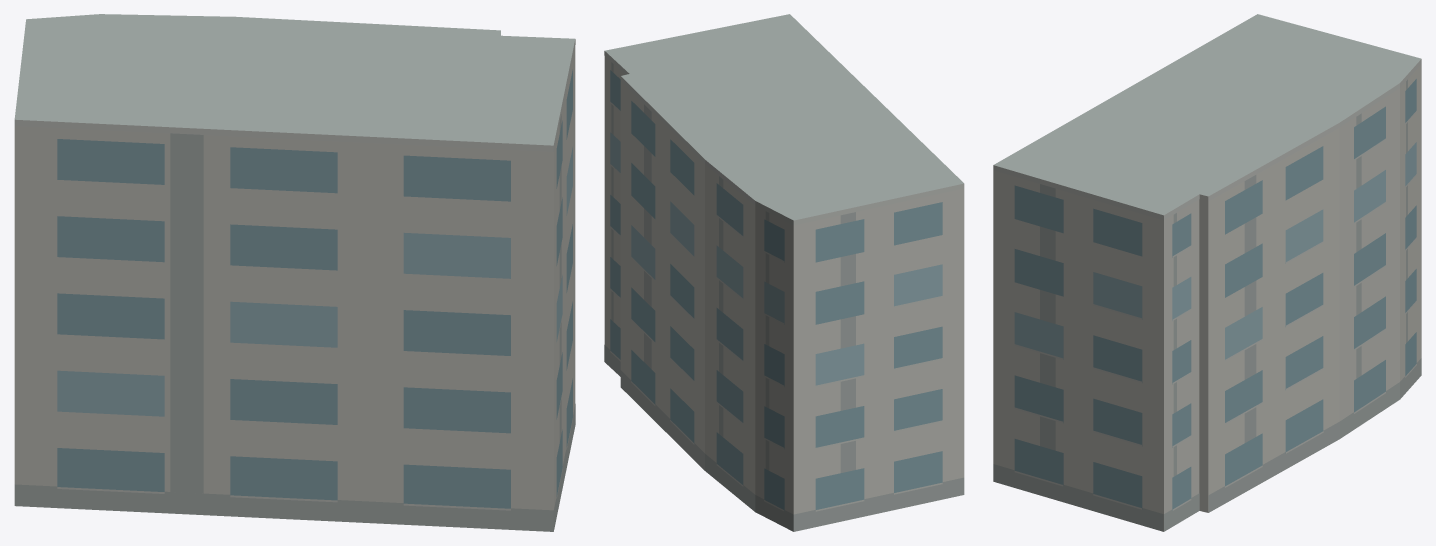
File: survey-upis-32472799.glb
The picture shows the model from 3 angles, left to right: view 1: azimuth 30°, elevation 25°; view 2: azimuth 150°, elevation 25°; view 3: azimuth 270°, elevation 25°; orthographic projection. The views are drawn at different scales.
Visible parts, largest first — view 1: survey-upis-32472799.tmp; view 2: survey-upis-32472799.tmp; view 3: survey-upis-32472799.tmp.
Boxes of the visible parts, bbox=[...] form: survey-upis-32472799.tmp: bbox=[14, 14, 575, 531]; survey-upis-32472799.tmp: bbox=[604, 14, 964, 531]; survey-upis-32472799.tmp: bbox=[993, 14, 1421, 531].
Bounding box in the file's own units: 20.82 × 15.25 × 18.71.
